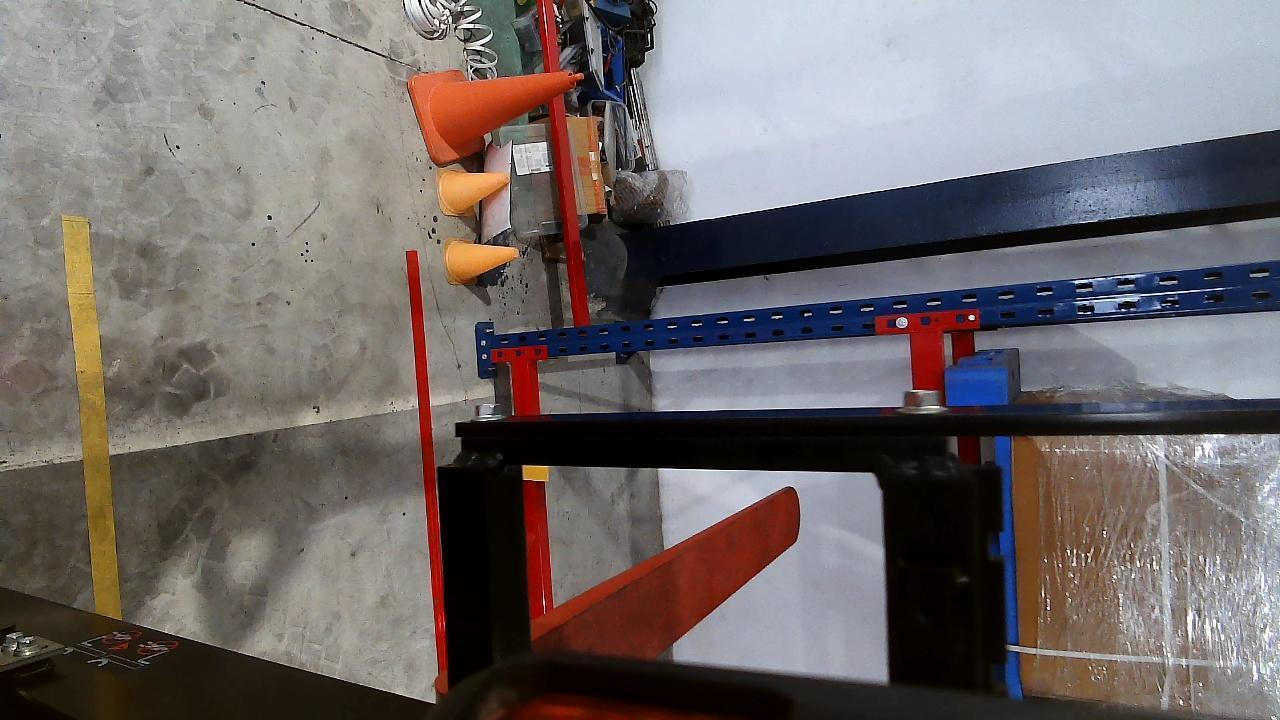red_line: (407, 249, 452, 693)
yellow_line: (60, 214, 118, 620)
